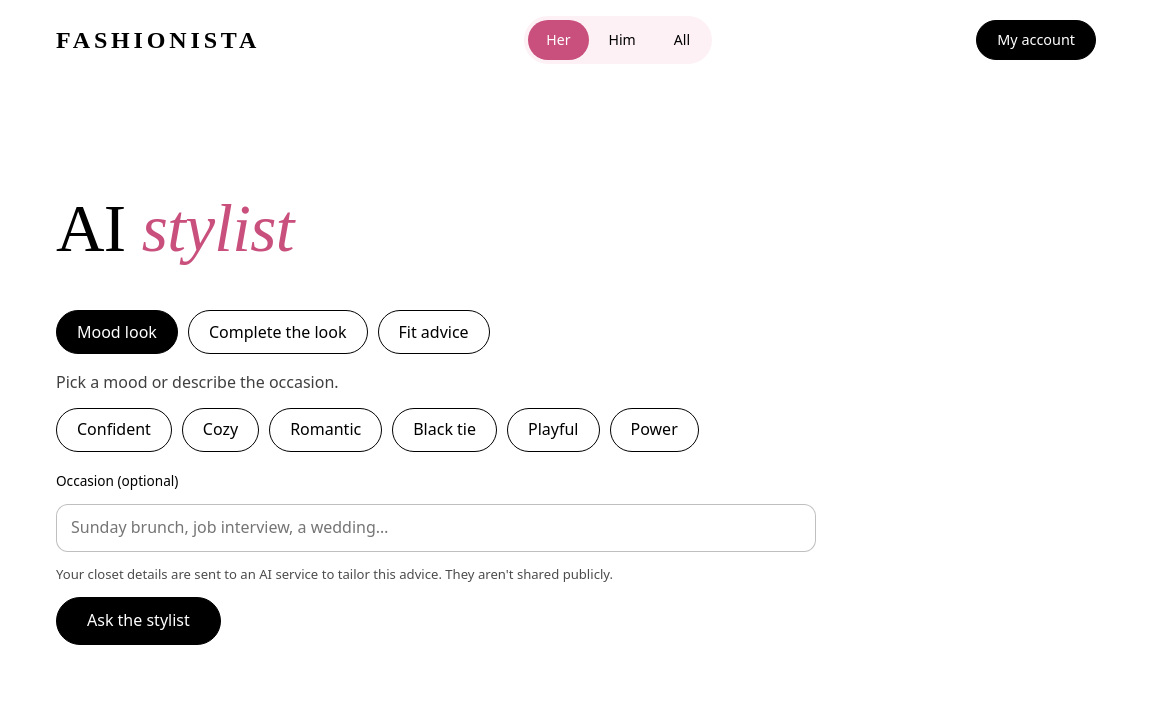
Test: AI stylist page › shows the hourly-limit message when the server says no
What coordinates should you click on to do the following:
click the button "Power"
I would click on:
 (654, 430)
Its box is [610, 408, 699, 452].
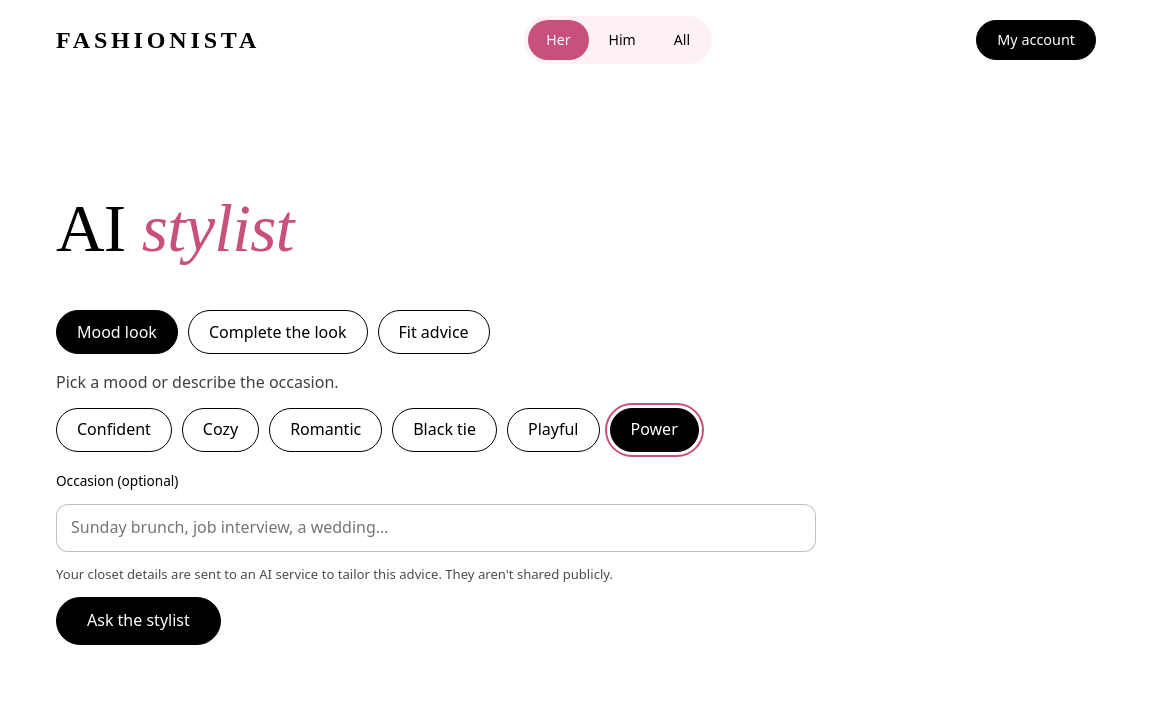
What coordinates should you click on to do the following:
click the button "Ask the stylist"
I would click on:
 (138, 621)
Its box is [56, 597, 221, 645].
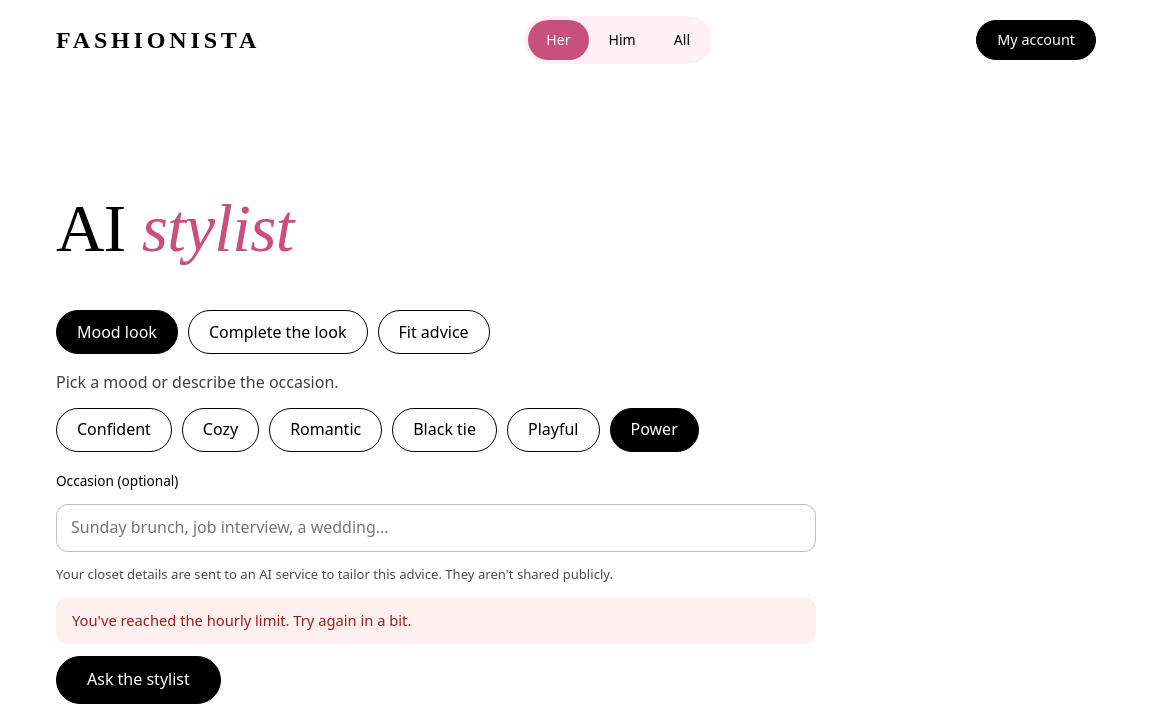
Check: the text "You've reached the hourly limit. Try again in a bit." is shown, box [56, 597, 816, 644]
